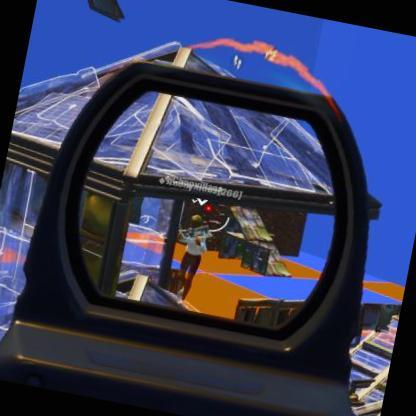person: (164, 212, 216, 308)
